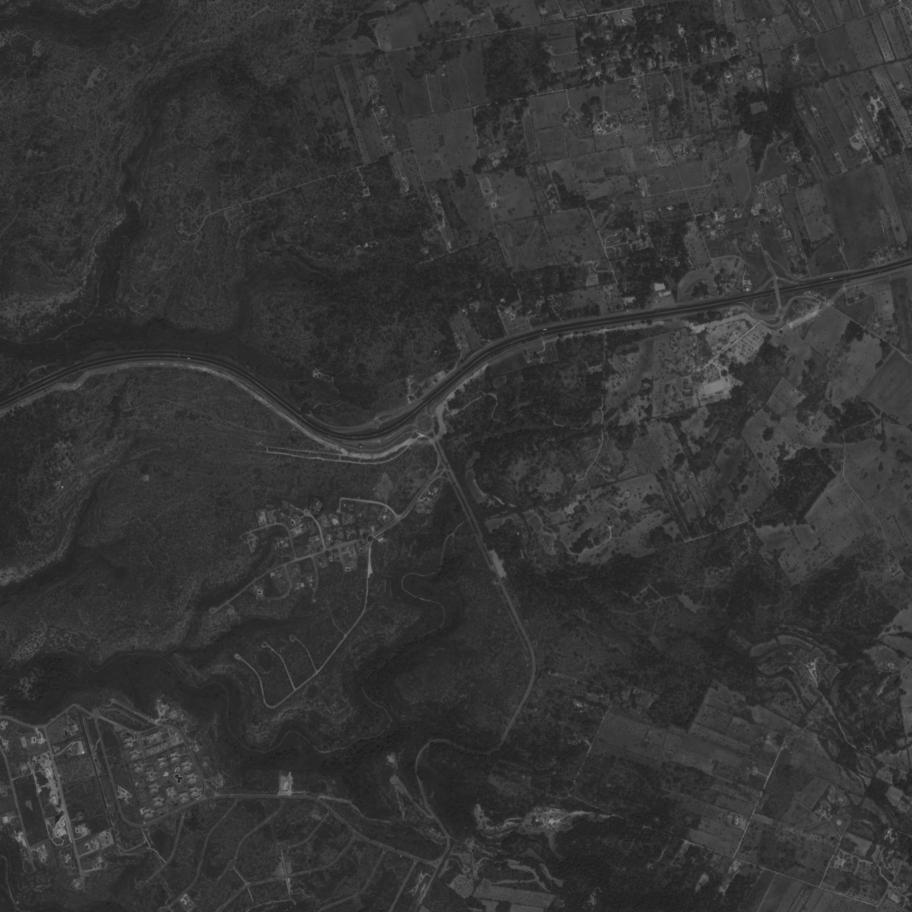storage-tank: (164, 771, 169, 777)
